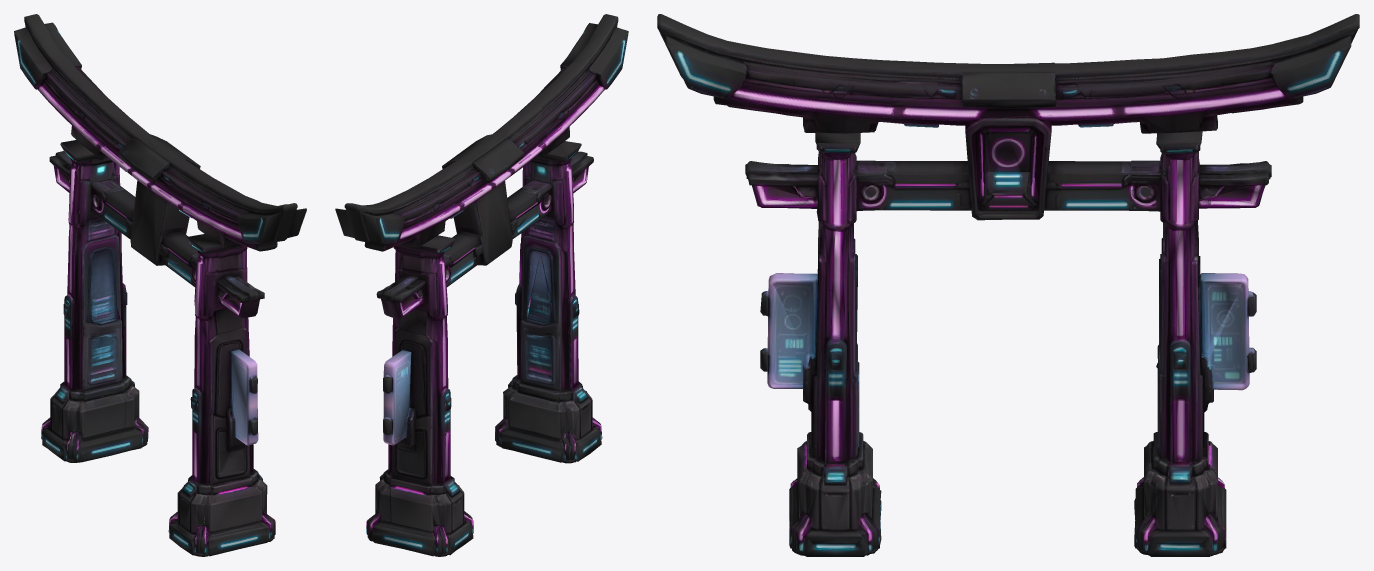
Rendered from toriiGate.glb.
3 renders of one model, left to right at view 1: azimuth 30°, elevation 25°; view 2: azimuth 150°, elevation 25°; view 3: azimuth 270°, elevation 25°, orthographic. The views are drawn at different scales.
Visible parts, largest first — view 1: tripo_node_f2ff4b86-48ac-41e3-ad64-498ca858a85a; view 2: tripo_node_f2ff4b86-48ac-41e3-ad64-498ca858a85a; view 3: tripo_node_f2ff4b86-48ac-41e3-ad64-498ca858a85a.
Boxes of the visible parts, left/top/right/bottom form: tripo_node_f2ff4b86-48ac-41e3-ad64-498ca858a85a: left=14, top=14, right=306, bottom=556; tripo_node_f2ff4b86-48ac-41e3-ad64-498ca858a85a: left=335, top=14, right=628, bottom=556; tripo_node_f2ff4b86-48ac-41e3-ad64-498ca858a85a: left=657, top=14, right=1359, bottom=556.
Bounding box in the file's own units: 0.1855 × 0.8066 × 0.998.
1 material, 1 textured.
